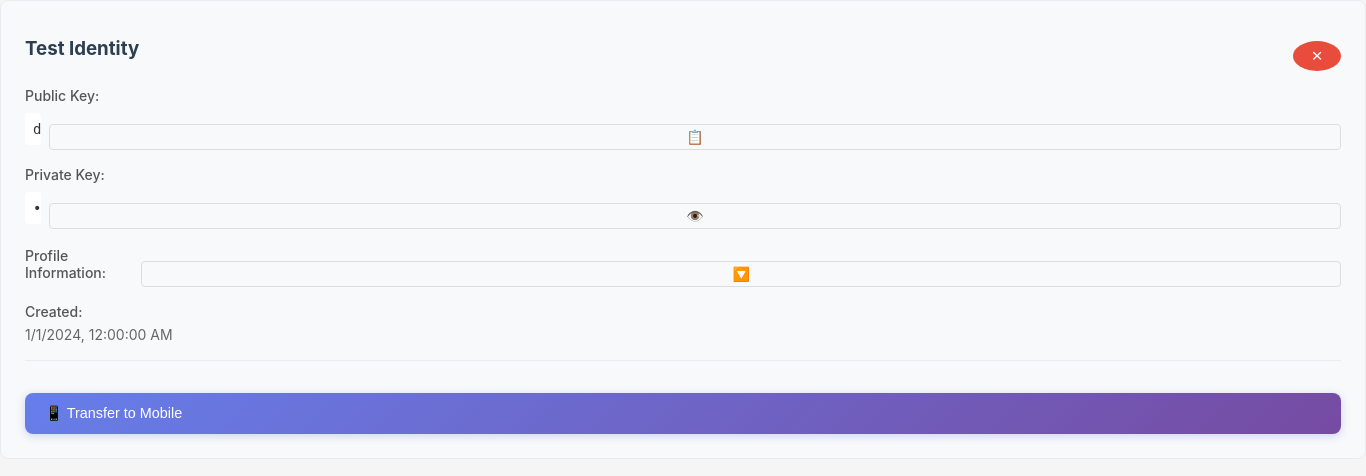
IdentityCard › toggles private key visibility
This screenshot has width=1366, height=476.
Click the button "👁️" at coordinates (695, 216), box top-left (49, 203), bottom-right (1341, 229)
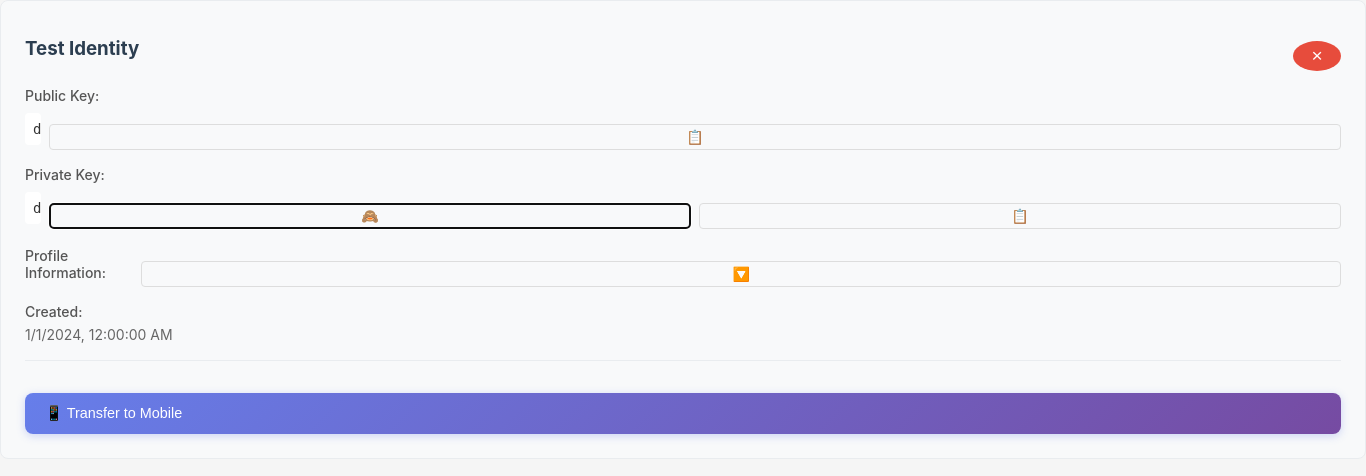
Check: the text "dGVzdC1wcml2YXRlLWtleQ==" is shown, box top-left (25, 192), bottom-right (41, 224)
Check: the button "🙈" is shown
Click the button "🙈" at coordinates (370, 216), box top-left (49, 203), bottom-right (691, 229)
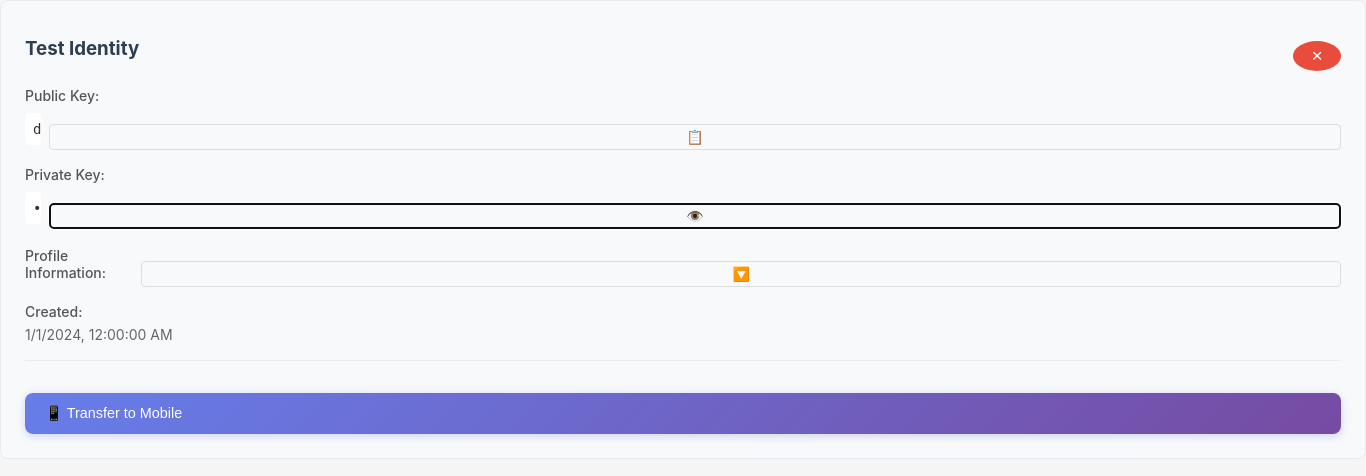
Check: the text "dGVzdC1wcml2YXRlLWtleQ==" is gone
